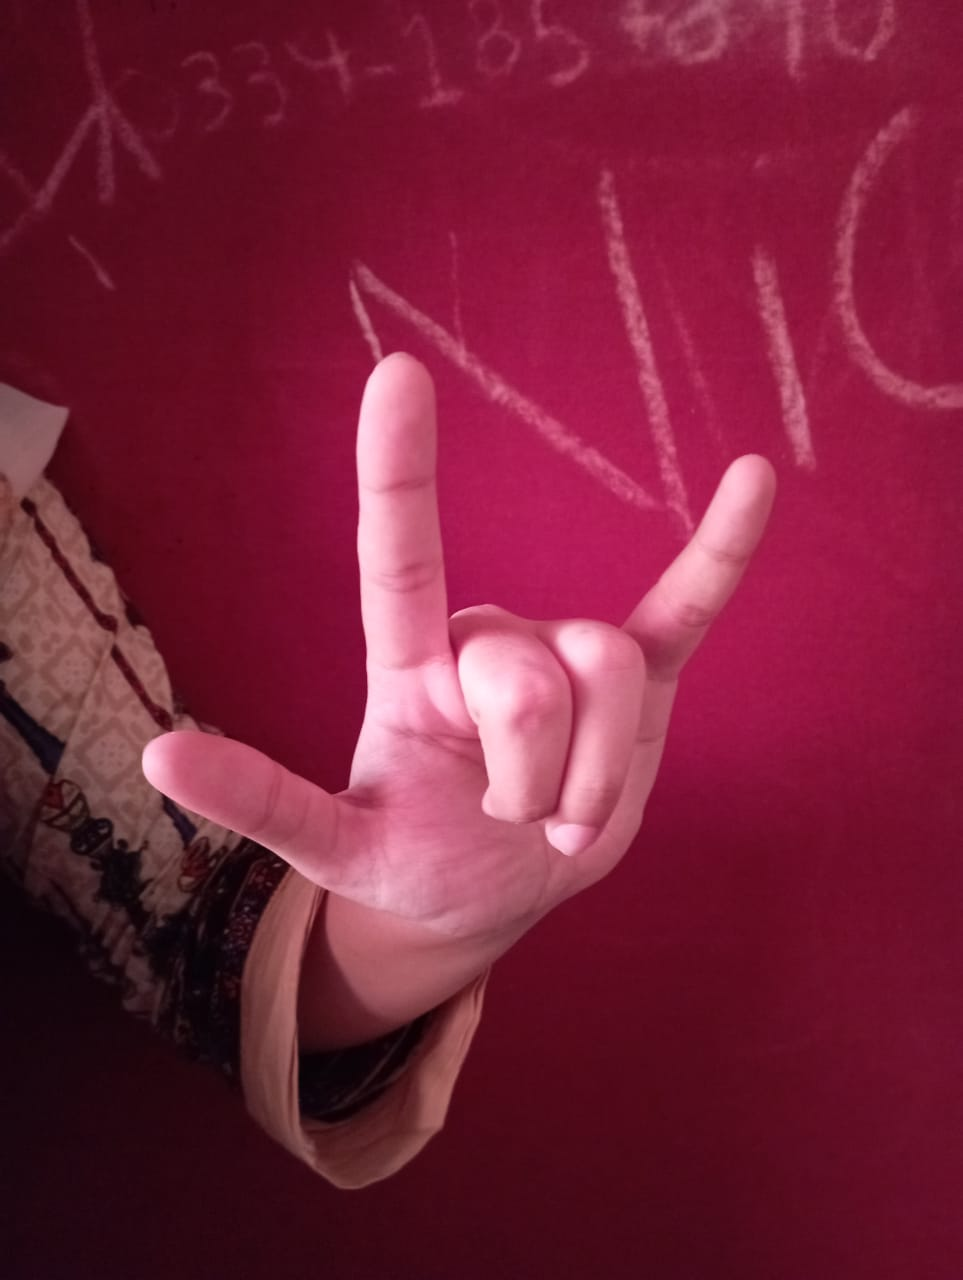Loved It: (134, 343, 797, 957)
